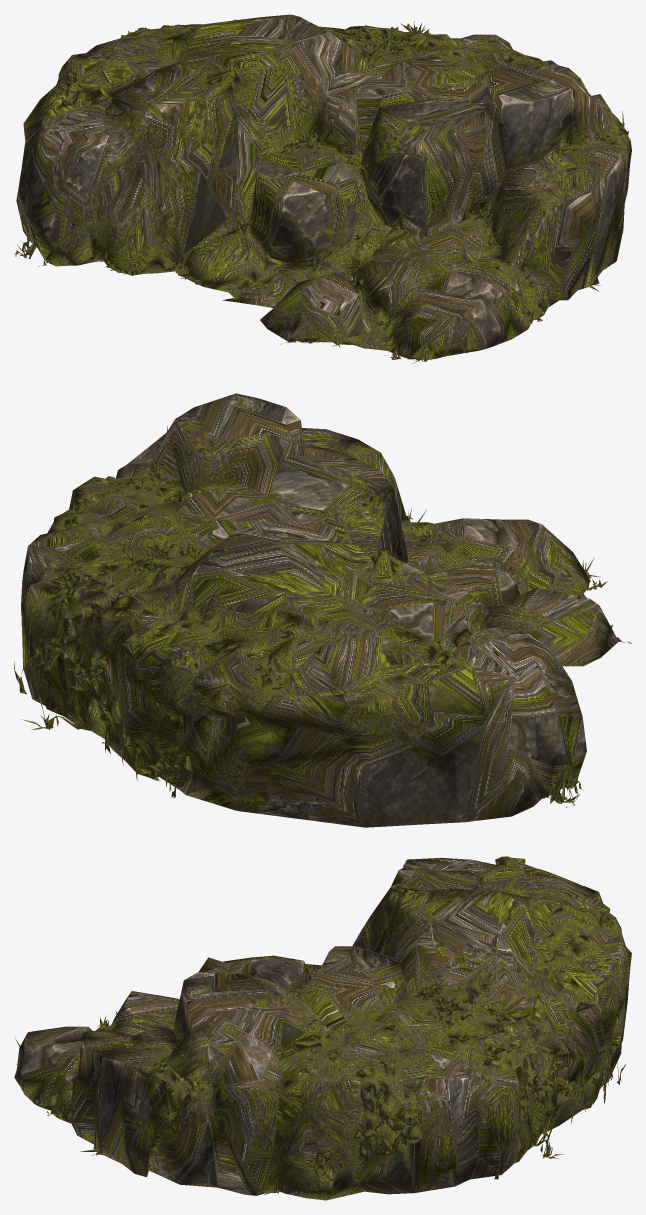
The model's file is rock_small.glb.
3 renders of one model, top to bottom at view 1: azimuth 30°, elevation 25°; view 2: azimuth 150°, elevation 25°; view 3: azimuth 270°, elevation 25°, orthographic. The views are drawn at different scales.
Bounding box in the file's own units: 1.74 × 0.5218 × 1.76.
1 material, 1 textured.
